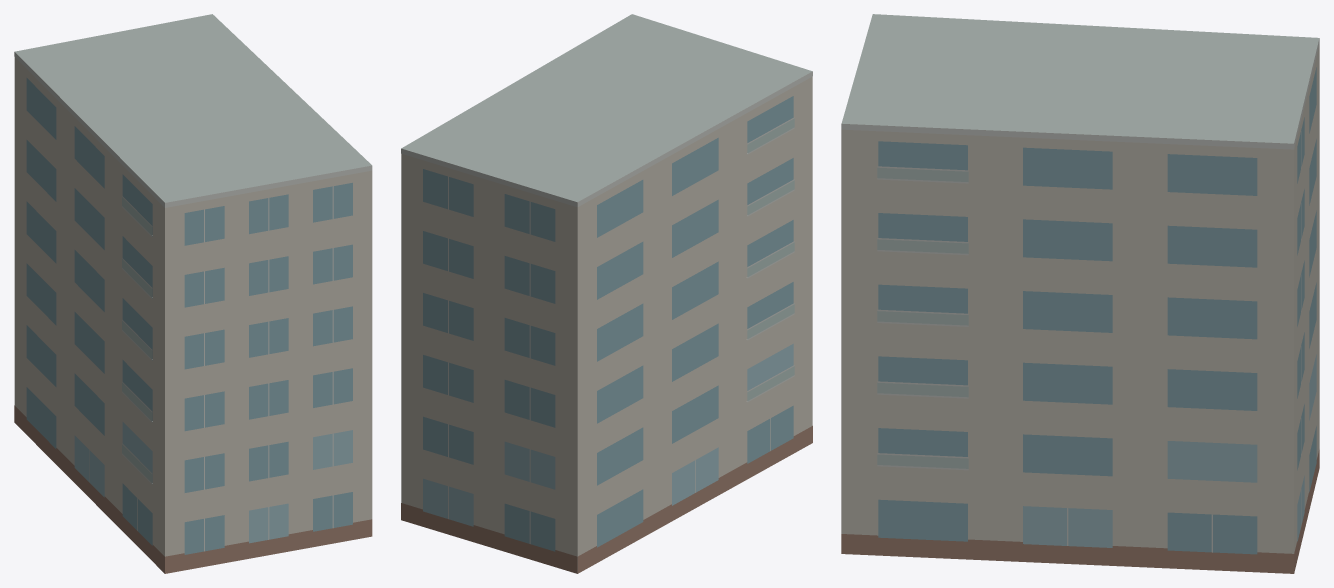
The model's file is survey-upis-32566362.glb.
3 renders of one model, left to right at view 1: azimuth 30°, elevation 25°; view 2: azimuth 150°, elevation 25°; view 3: azimuth 270°, elevation 25°, orthographic. The views are drawn at different scales.
Parts seen in each view (by area): view 1: survey-upis-32566362.tmp; view 2: survey-upis-32566362.tmp; view 3: survey-upis-32566362.tmp.
Part boxes in pixels (x1=…): survey-upis-32566362.tmp: x1=14, y1=14, x2=372, y2=573; survey-upis-32566362.tmp: x1=401, y1=14, x2=812, y2=573; survey-upis-32566362.tmp: x1=841, y1=14, x2=1319, y2=573.
Bounding box in the file's own units: 11.56 × 17.85 × 17.99.
